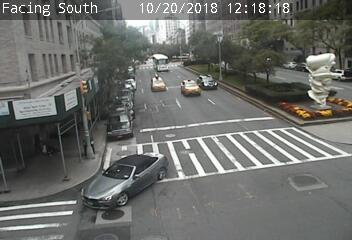car: (81, 153, 168, 210), (180, 79, 200, 97), (196, 74, 218, 90), (152, 53, 169, 72), (150, 75, 166, 91)
